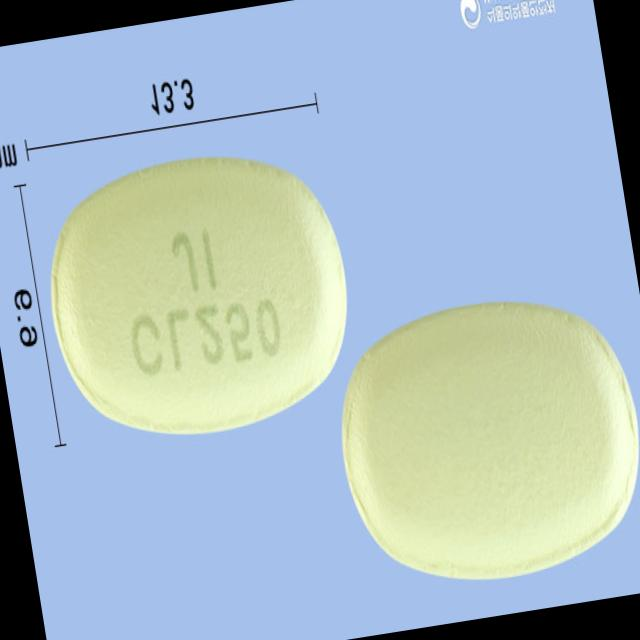Jecli - 500mg: (31, 134, 368, 456)
